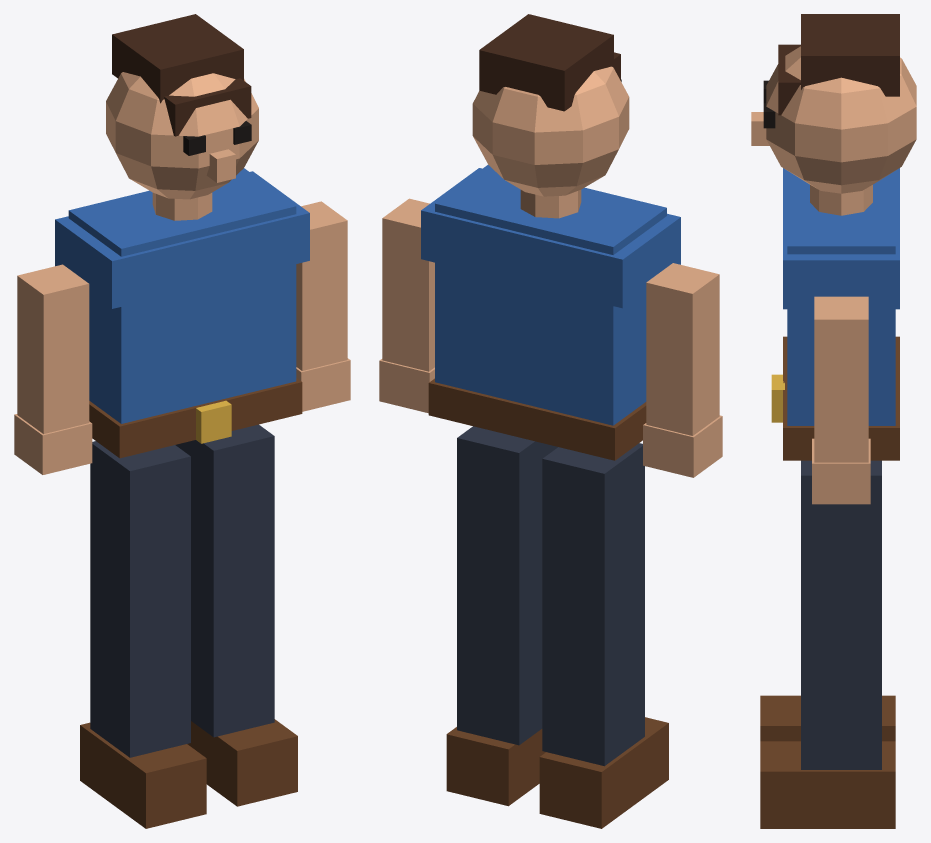
Rendered from hero.glb.
The picture shows the model from 3 angles, left to right: view 1: azimuth 30°, elevation 25°; view 2: azimuth 150°, elevation 25°; view 3: azimuth 270°, elevation 25°; orthographic projection. The views are drawn at different scales.
Parts seen in each view (by area): view 1: Hero; view 2: Hero; view 3: Hero.
Boxes of the visible parts, x1,y1,x2,y2 form: Hero: [14, 14, 350, 828]; Hero: [379, 14, 722, 828]; Hero: [751, 14, 916, 828].
Size of the model in its own units: 0.81 by 1.85 by 0.3669.
